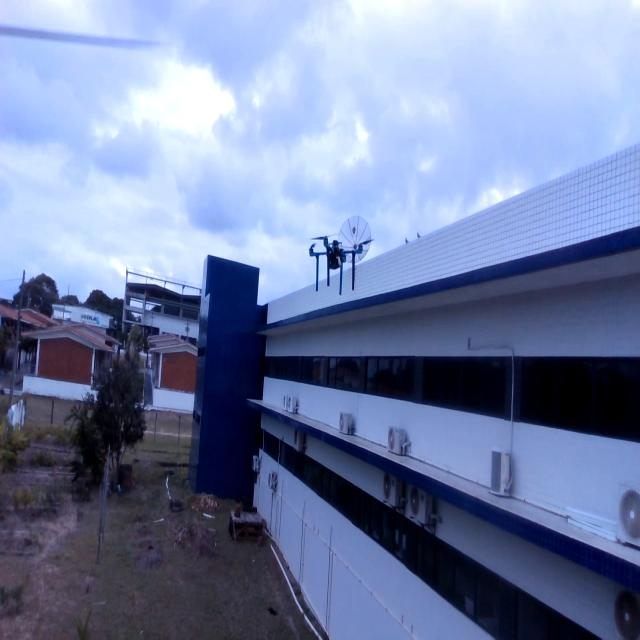-uav-: (296, 220, 371, 316)
